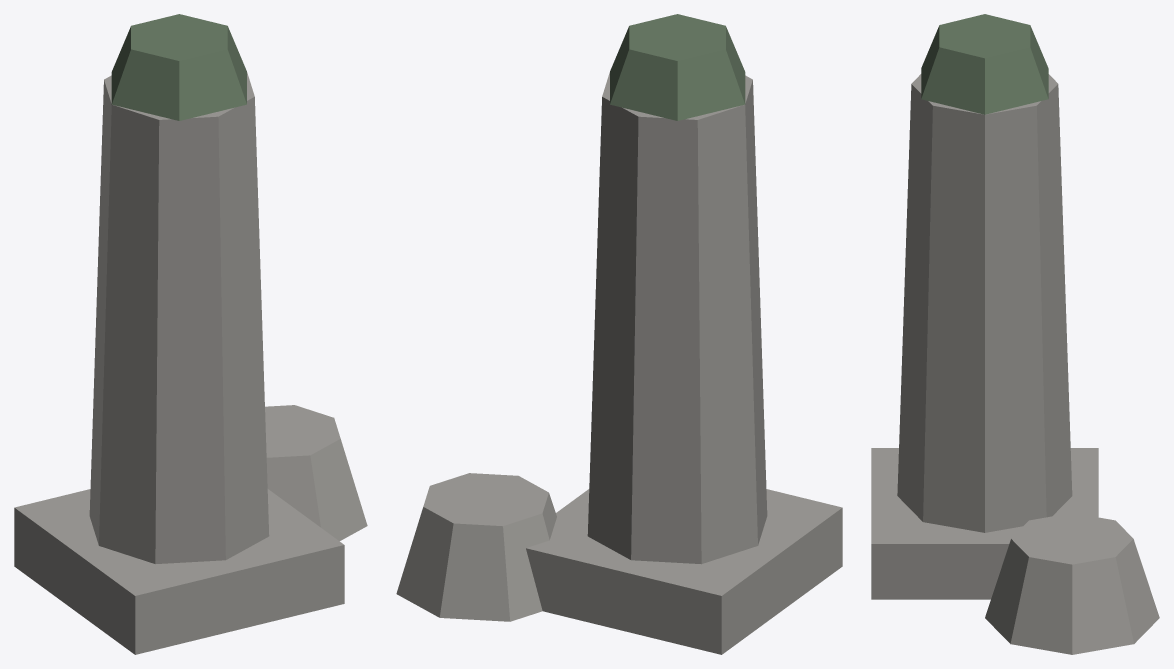
The model's file is abbey_pillar.glb.
3 renders of one model, left to right at view 1: azimuth 30°, elevation 25°; view 2: azimuth 150°, elevation 25°; view 3: azimuth 270°, elevation 25°, orthographic. The views are drawn at different scales.
Parts seen in each view (by area): view 1: abbey_pillar; view 2: abbey_pillar; view 3: abbey_pillar.
Boxes of the visible parts, x1,y1,x2,y2 form: abbey_pillar: (14,14,367,654); abbey_pillar: (396,14,842,654); abbey_pillar: (871,14,1159,654).
Bounding box in the file's own units: 2.05 × 3.25 × 1.65.
